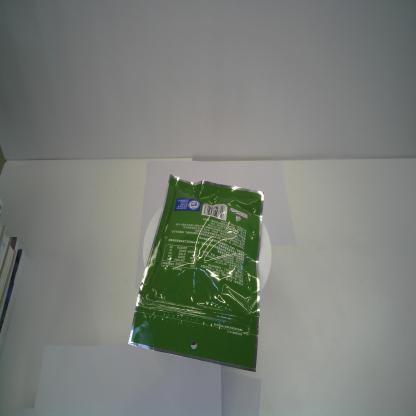Dried Fruit: (126, 170, 267, 375)
